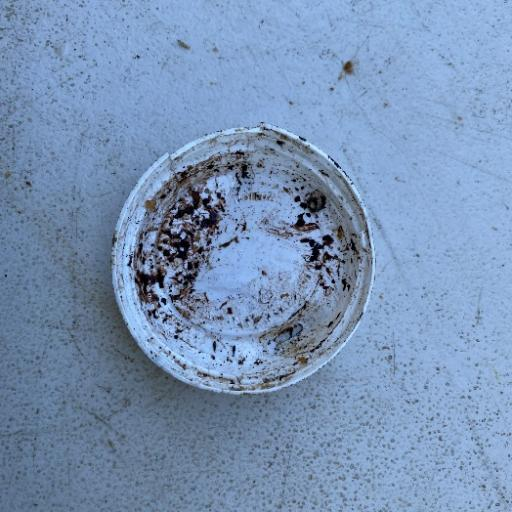Plastic: (108, 120, 377, 397)
